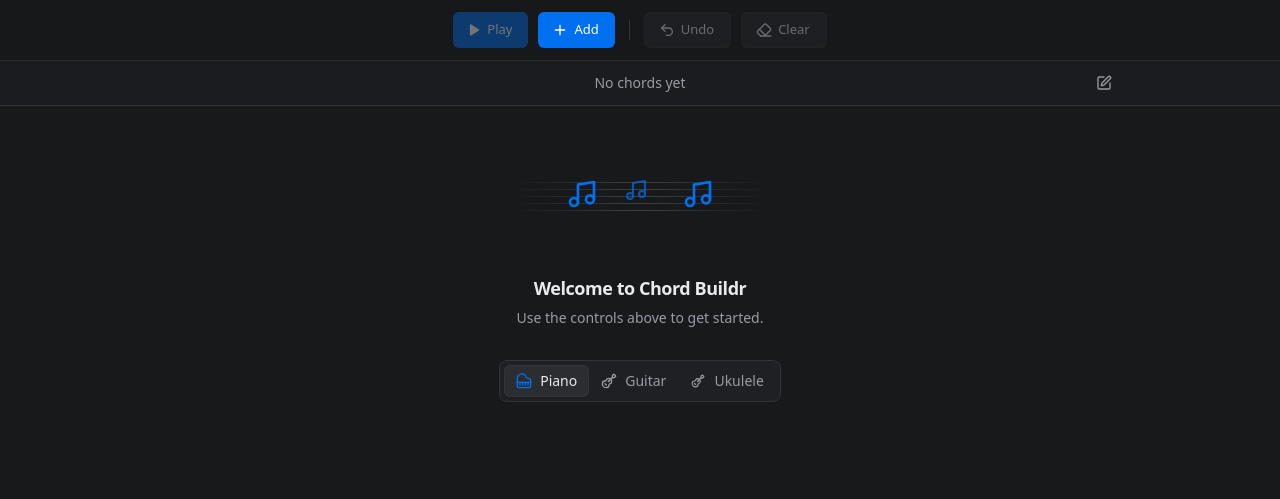
Test case: building a progression › clears the board back to the welcome screen
Later steps or results of the test are not shown.
Click the button "Add". click: (577, 30)
box: [538, 12, 615, 48]
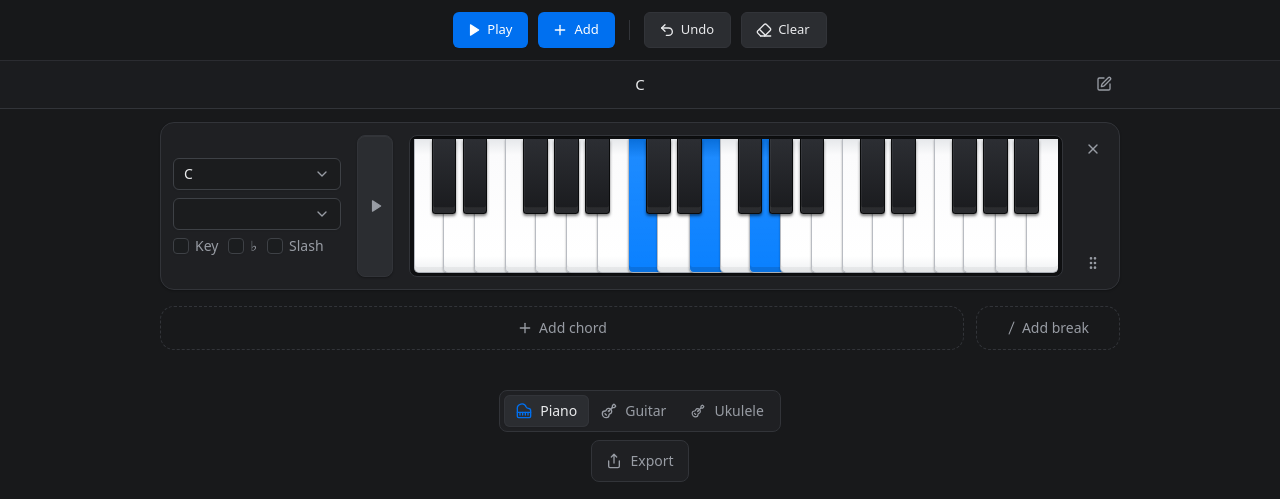
Click the button "Clear". click: (784, 30)
box: [741, 12, 827, 48]
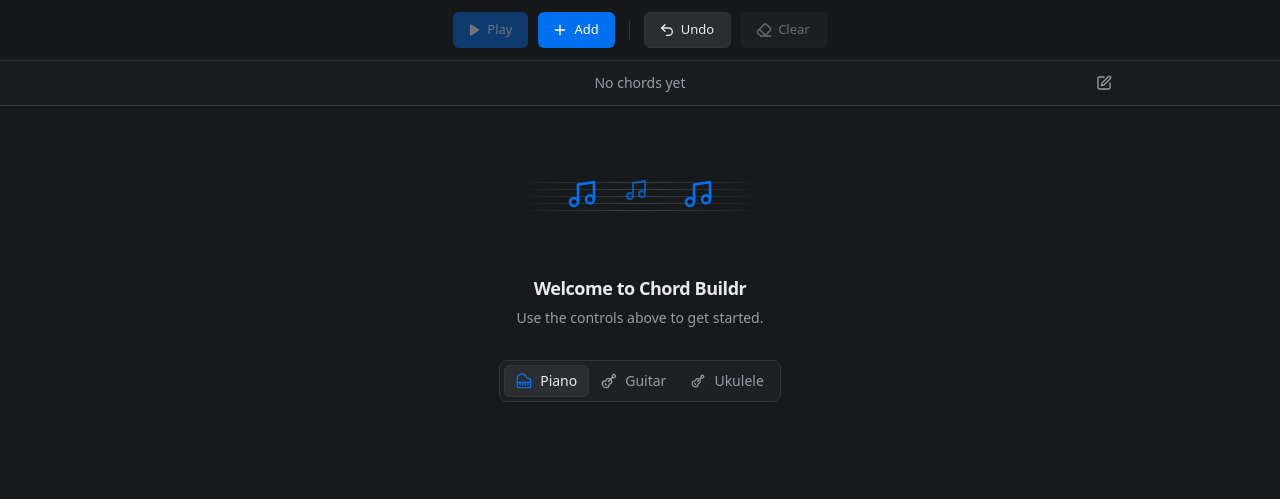
Result: the heading "Welcome to Chord Buildr" is shown at [534, 274, 746, 302]
Result: the text "No chords yet" is shown at [594, 73, 686, 93]
